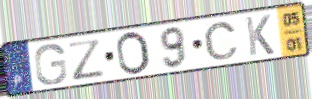9: (158, 24, 189, 70)
C: (202, 21, 241, 62)
G: (32, 42, 69, 87)
K: (243, 13, 276, 57)
O: (115, 30, 153, 78)
Z: (65, 37, 106, 82)
